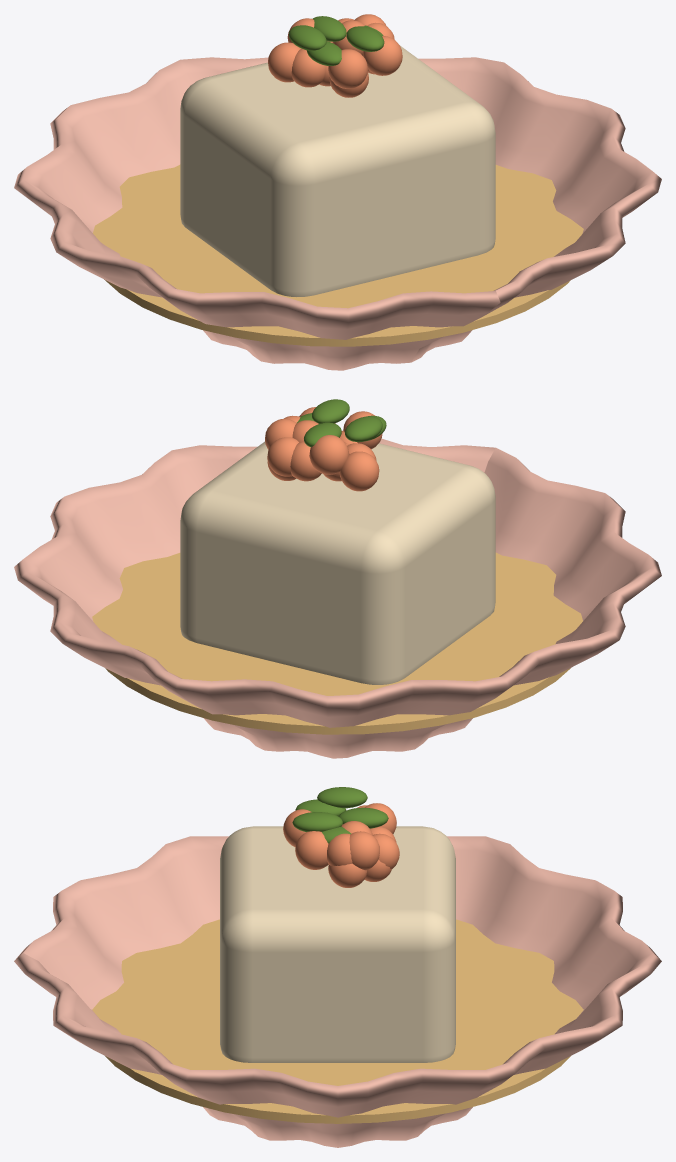
The model's file is 25-tofu-roe.glb.
3 views of the same model, one above another, from view 1: azimuth 30°, elevation 25°; view 2: azimuth 150°, elevation 25°; view 3: azimuth 270°, elevation 25° (orthographic).
Parts seen in each view (by area): view 1: 냉두부 폰즈; view 2: 냉두부 폰즈; view 3: 냉두부 폰즈.
Part boxes in pixels (x1,y1,x2,y2): 냉두부 폰즈: (14, 14, 661, 370); 냉두부 폰즈: (14, 399, 661, 758); 냉두부 폰즈: (14, 787, 661, 1147).
Bounding box in the file's own units: 1.79 × 0.861 × 1.79.
